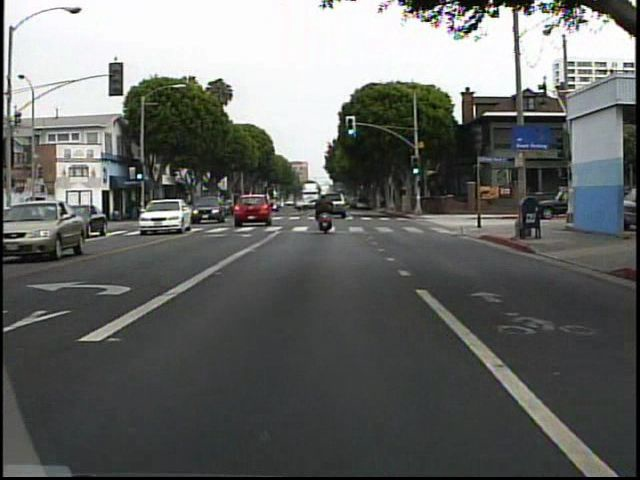person: (311, 186, 342, 243)
